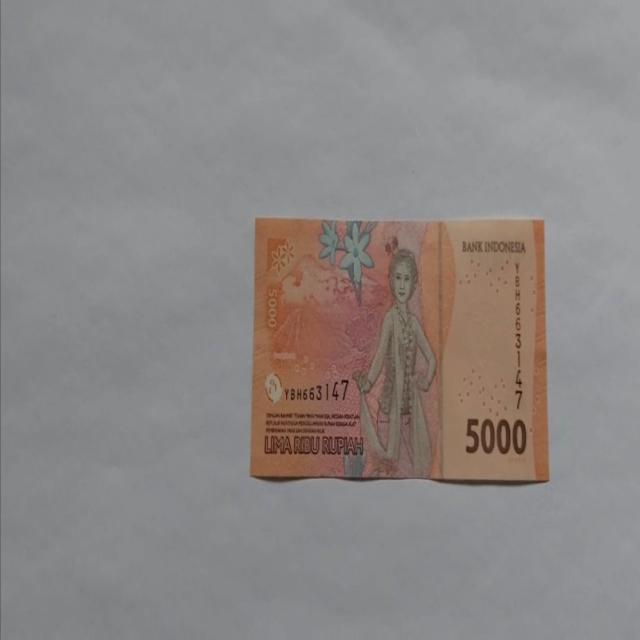lima ribu rupiah: (249, 215, 549, 484), (350, 247, 438, 478)
